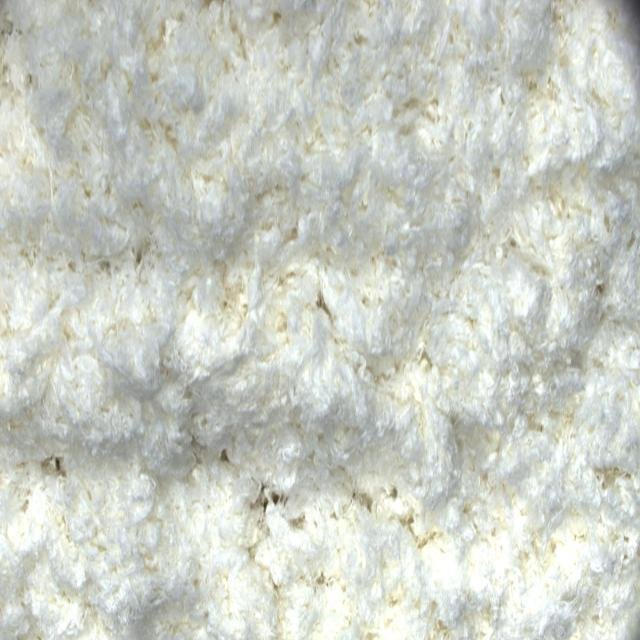dust: (262, 485, 283, 523)
